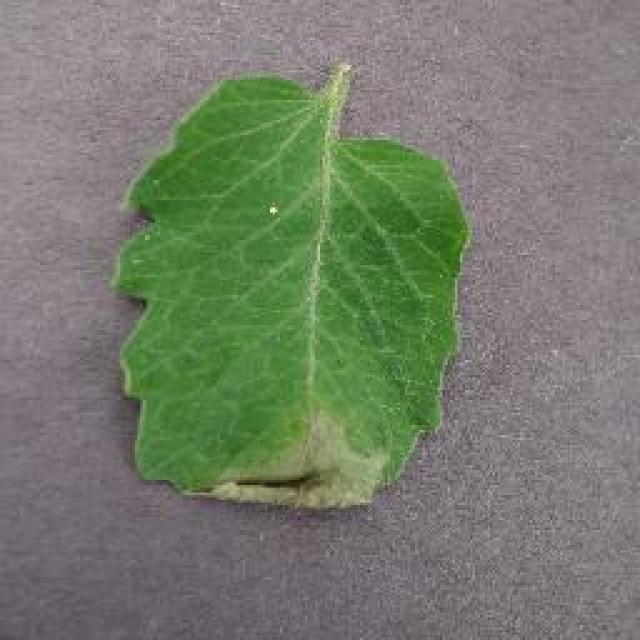Tomato Late Blight: (212, 395, 413, 532)
